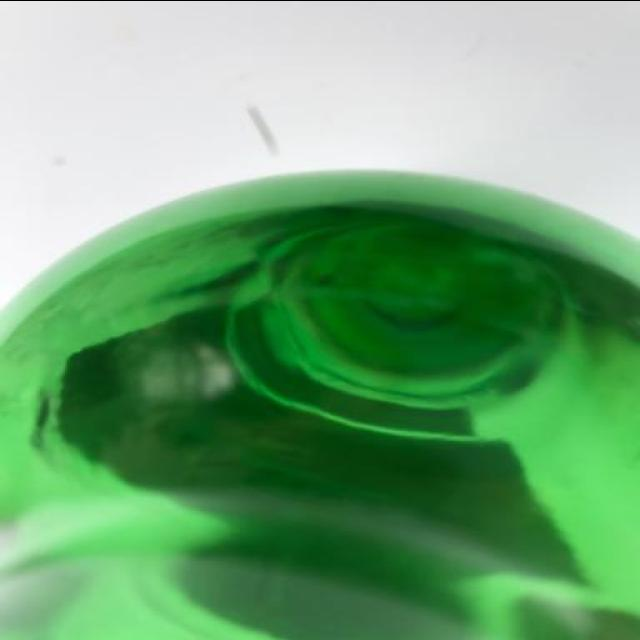litter: (1, 164, 640, 640)
